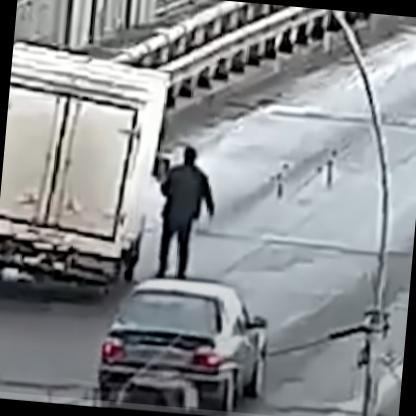Human Body: (150, 143, 221, 282)
